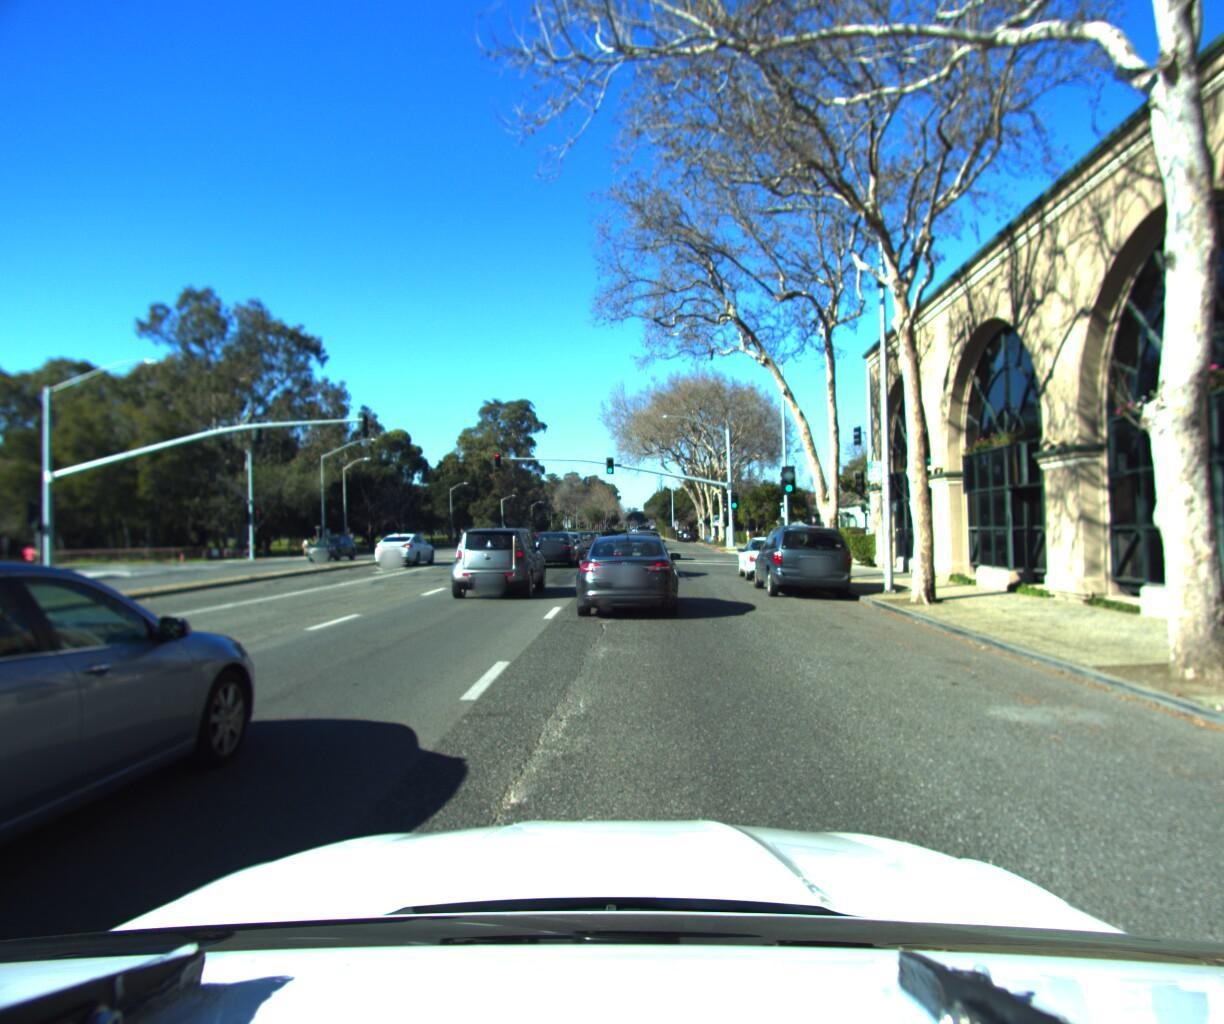car: (564, 526, 681, 620), (743, 511, 857, 593), (447, 518, 550, 599), (729, 527, 807, 581), (370, 527, 435, 566), (527, 528, 582, 568), (304, 531, 358, 562), (546, 527, 586, 558), (569, 531, 600, 556)
